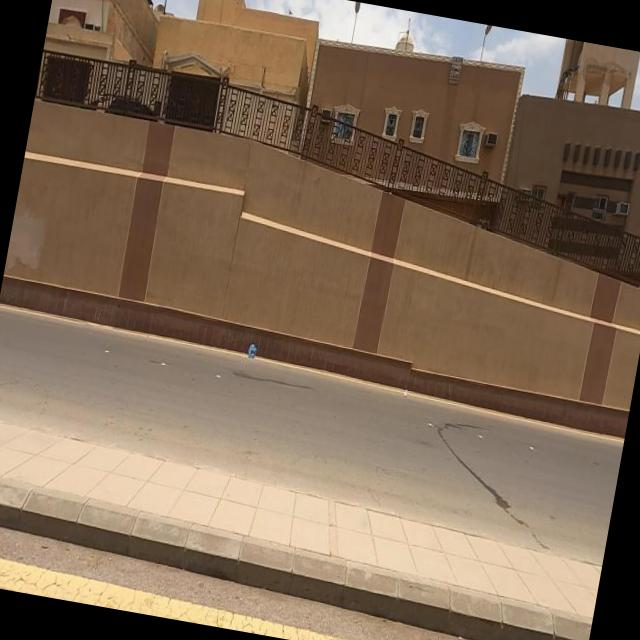debris: (215, 302, 293, 396)
